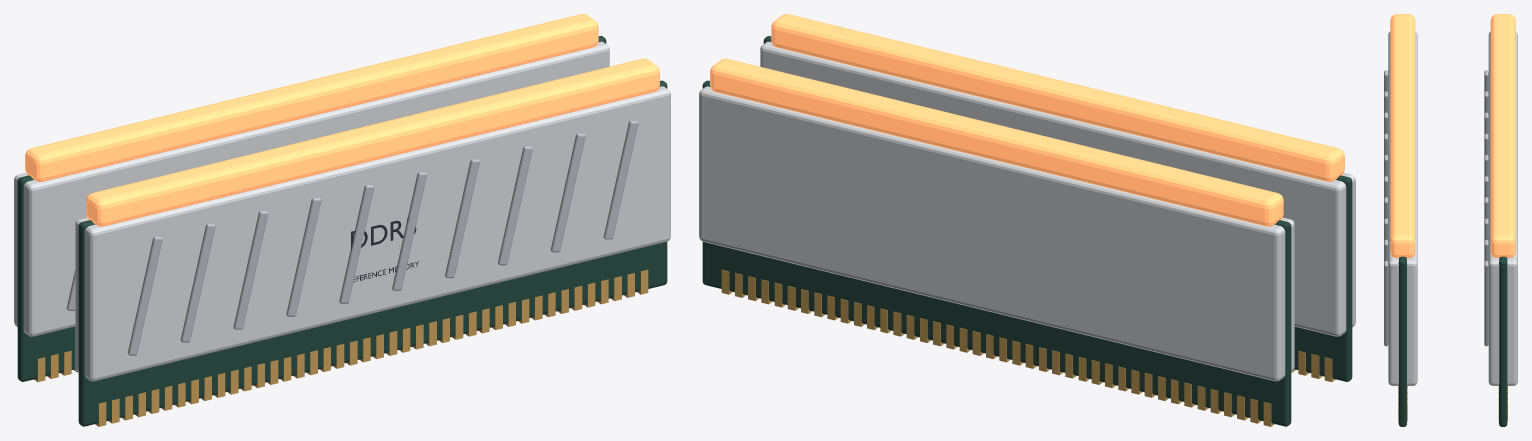
File: ram-ddr5.glb
3 views of the same model, side by side, from view 1: azimuth 30°, elevation 25°; view 2: azimuth 150°, elevation 25°; view 3: azimuth 270°, elevation 25° (orthographic). The views are drawn at different scales.
Visible parts, largest first — view 1: Ceramic white, RGB demonstrative.001, PCB.002, Brushed alloy.002, Gold contacts.002, Anodized graphite.001; view 2: Ceramic white, RGB demonstrative.001, PCB.002, Gold contacts.002; view 3: RGB demonstrative.001, Ceramic white, PCB.002, Brushed alloy.002, Gold contacts.002.
Part boxes in pixels (x1,y1,x2,y2): Ceramic white: (14,41,670,381); RGB demonstrative.001: (25,14,659,226); PCB.002: (17,36,667,426); Brushed alloy.002: (66,75,638,355); Gold contacts.002: (34,270,648,426); Anodized graphite.001: (351,218,418,282); Ceramic white: (699,41,1355,381); RGB demonstrative.001: (710,14,1344,226); PCB.002: (702,36,1352,426); Gold contacts.002: (721,270,1335,426); RGB demonstrative.001: (1390,14,1515,257); Ceramic white: (1388,31,1517,385); PCB.002: (1398,256,1507,426); Brushed alloy.002: (1384,70,1488,346); Gold contacts.002: (1398,386,1507,421).
Bounding box in the file's own units: 133 × 49.5 × 32.
